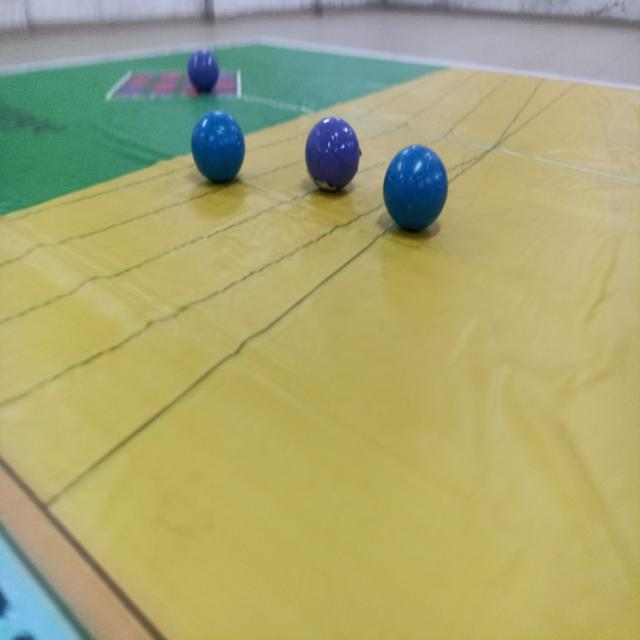blue_ball: (380, 142, 452, 238), (192, 107, 246, 191)
purple_ball: (302, 113, 359, 199), (187, 48, 220, 96)
